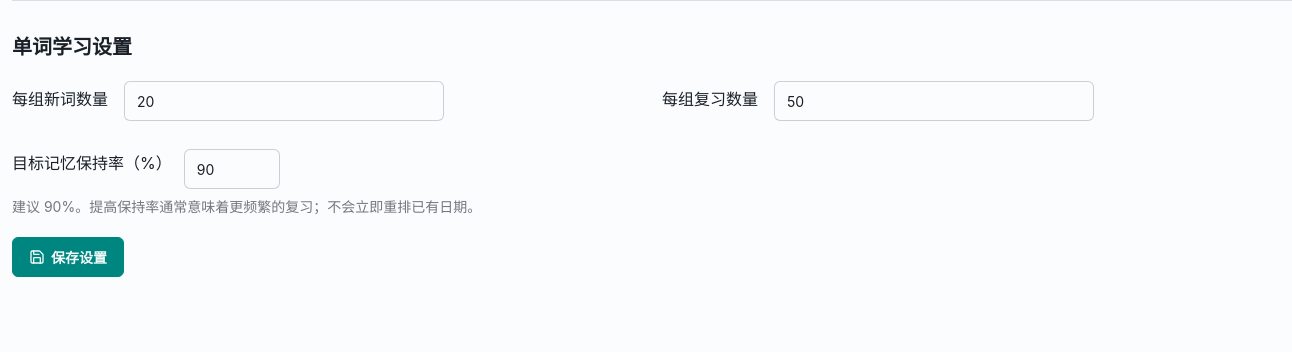
WordStudySettingsPanel › shows save failure and preserves the draft for retry
Replace the text in the number field labelled "每组新词数量" with "30" at point(284, 101), box top-left (124, 81), bottom-right (444, 121)
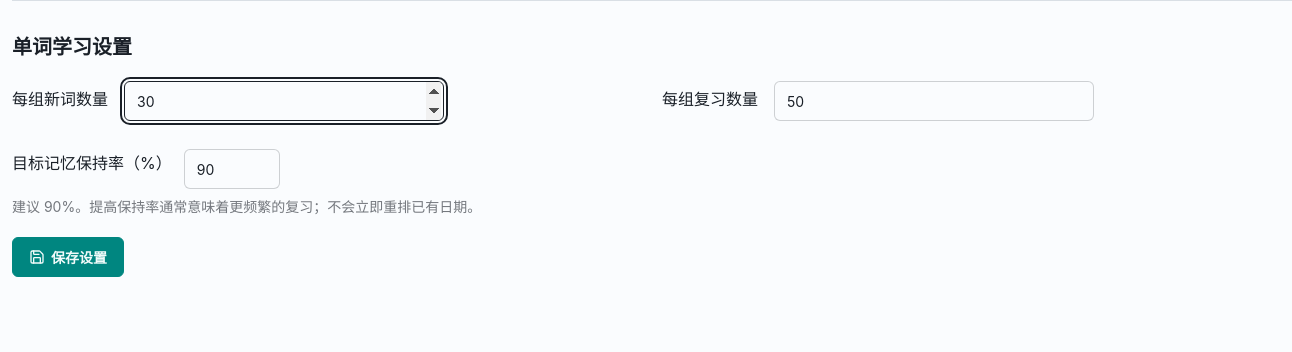
Click the button "保存设置" at point(68, 257), box top-left (12, 237), bottom-right (124, 277)
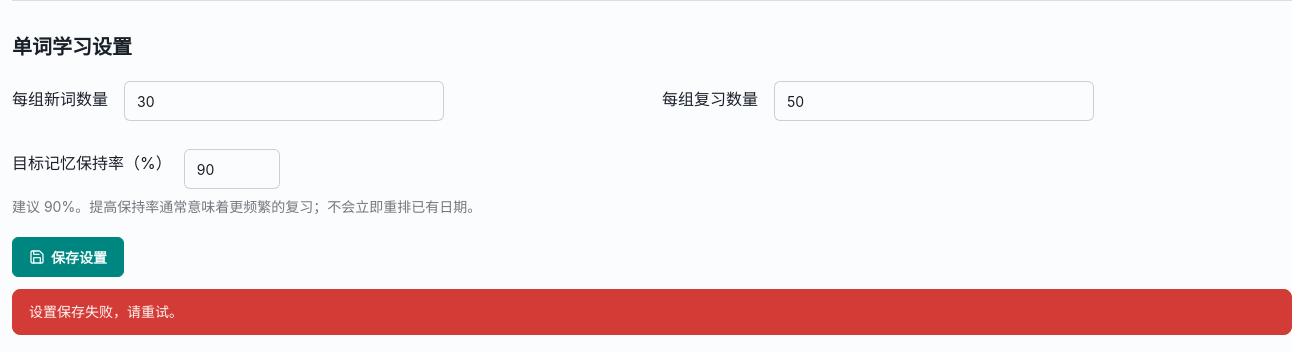
Result: the message shows "设置保存失败" at top-left (29, 303), bottom-right (183, 320)
